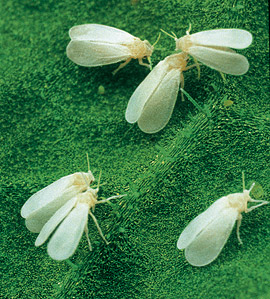Tobacco Whitefly: (26, 156, 100, 269), (171, 180, 262, 265), (55, 16, 148, 70), (175, 23, 254, 82), (133, 57, 189, 129)
